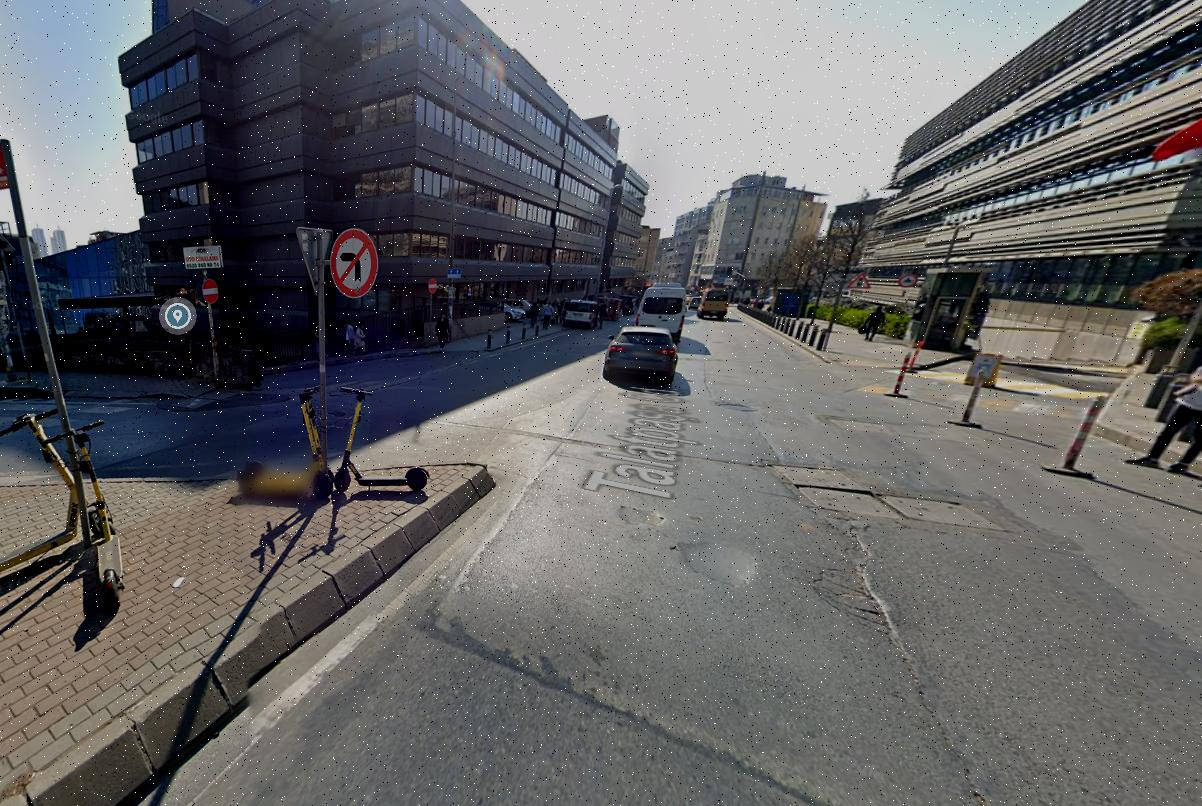leftturnsareforbidden: (331, 229, 377, 295)
